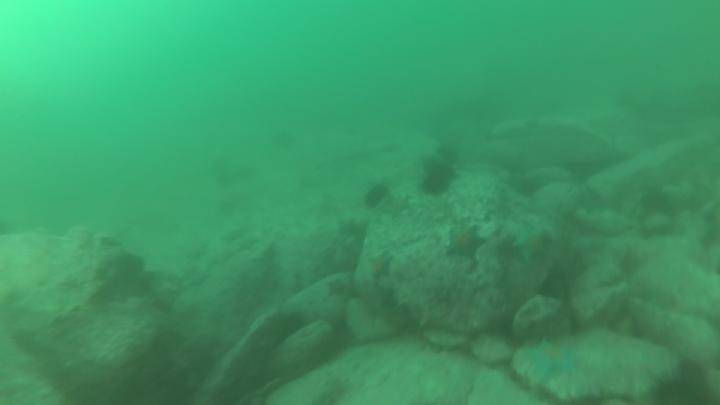echinus: (636, 187, 680, 221), (363, 180, 394, 211), (428, 157, 459, 184), (420, 170, 448, 197)
starfish: (444, 223, 492, 265), (376, 194, 414, 223), (367, 252, 399, 283), (326, 277, 359, 300)
